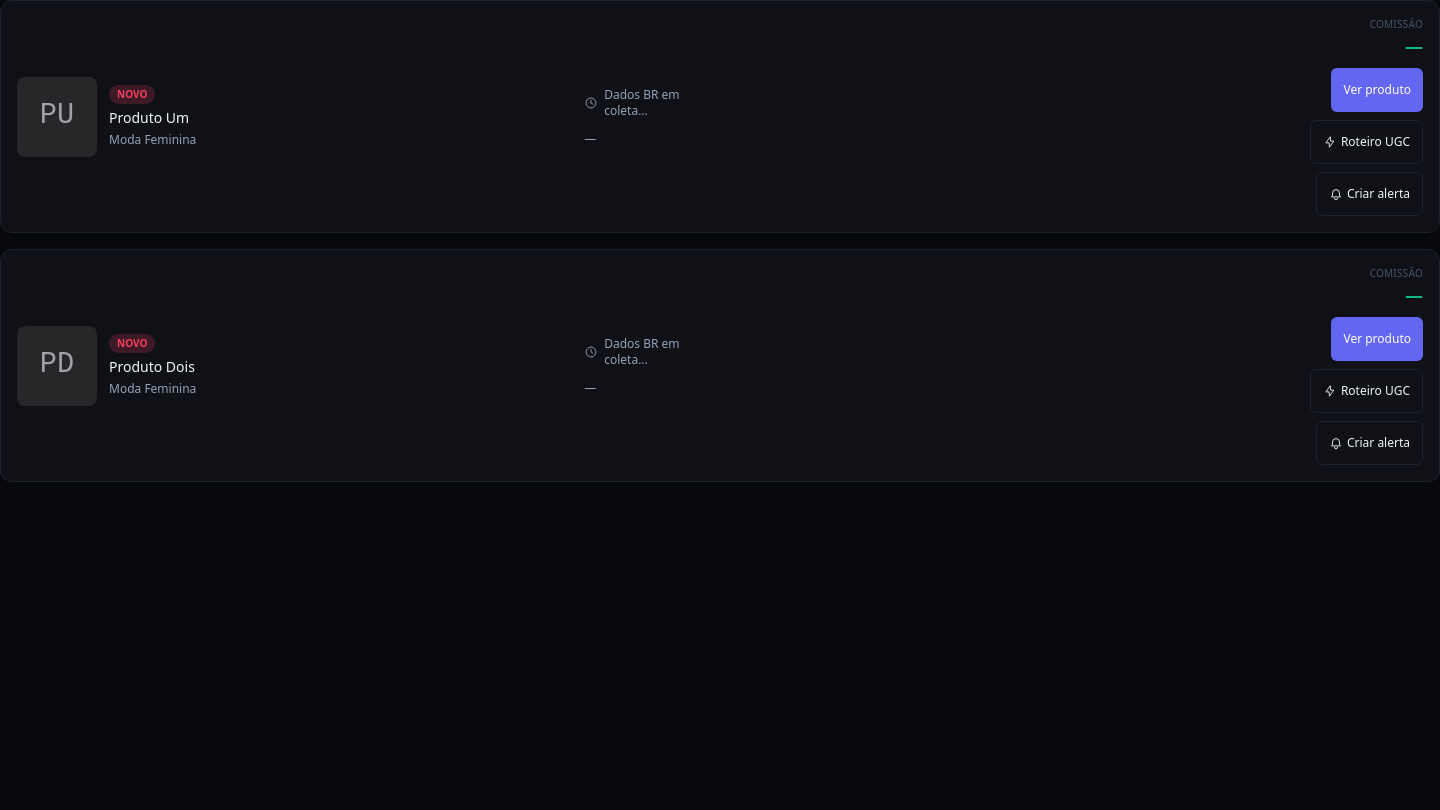
Test case: <SearchResultsList /> › clicar em 'Criar alerta' de um card abre o CreateAlertModal com o produto certo
Click the 1st button "Criar alerta".
click(1369, 194)  # box [1316,172,1423,216]
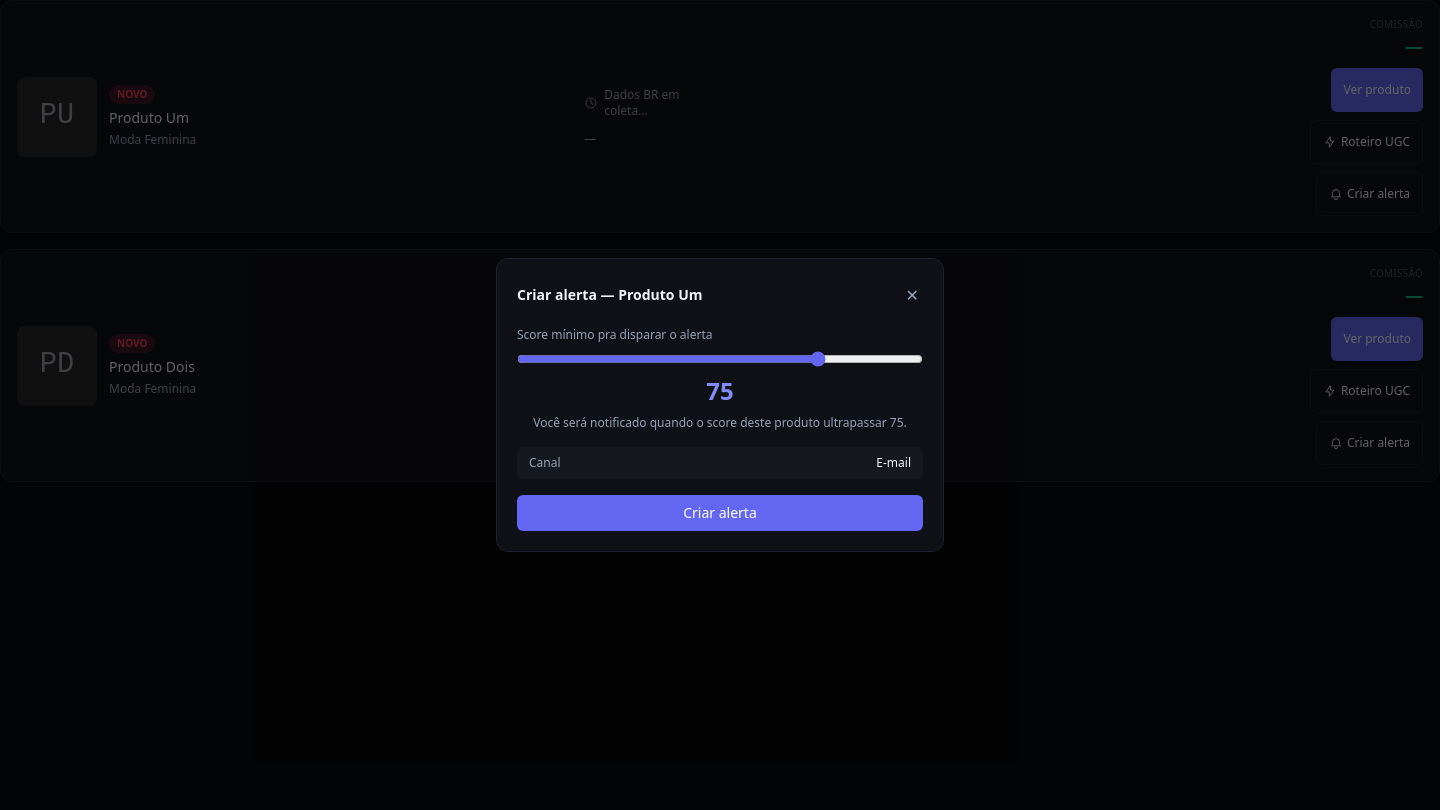
expect the heading "Criar alerta — Produto Um" is shown: met, box [517,285,702,305]
